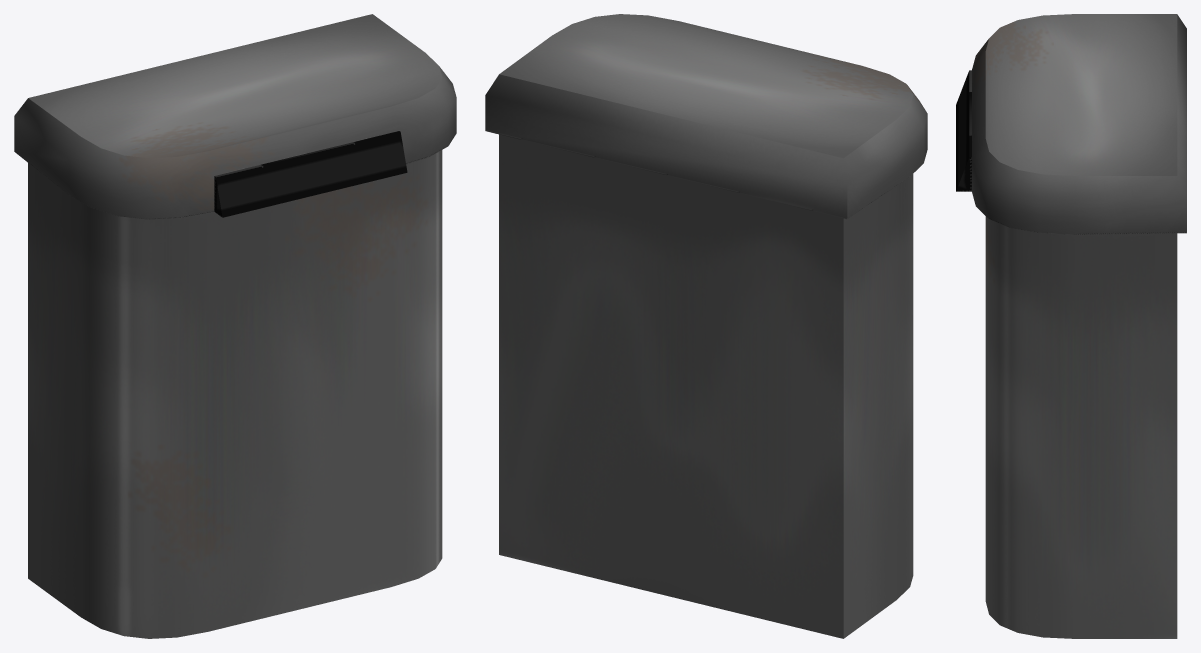
File: TrashCan_Q_UN_TEX.FBX
The picture shows the model from 3 angles, left to right: view 1: azimuth 30°, elevation 25°; view 2: azimuth 150°, elevation 25°; view 3: azimuth 270°, elevation 25°; orthographic projection. The views are drawn at different scales.
Parts seen in each view (by area): view 1: TrashCan; view 2: TrashCan; view 3: TrashCan.
Part boxes in pixels (x1,y1,x2,y2): TrashCan: (14,14,456,638); TrashCan: (485,14,927,638); TrashCan: (956,14,1186,638).
Bounding box in the file's own units: 19.29 × 24 × 10.84.
